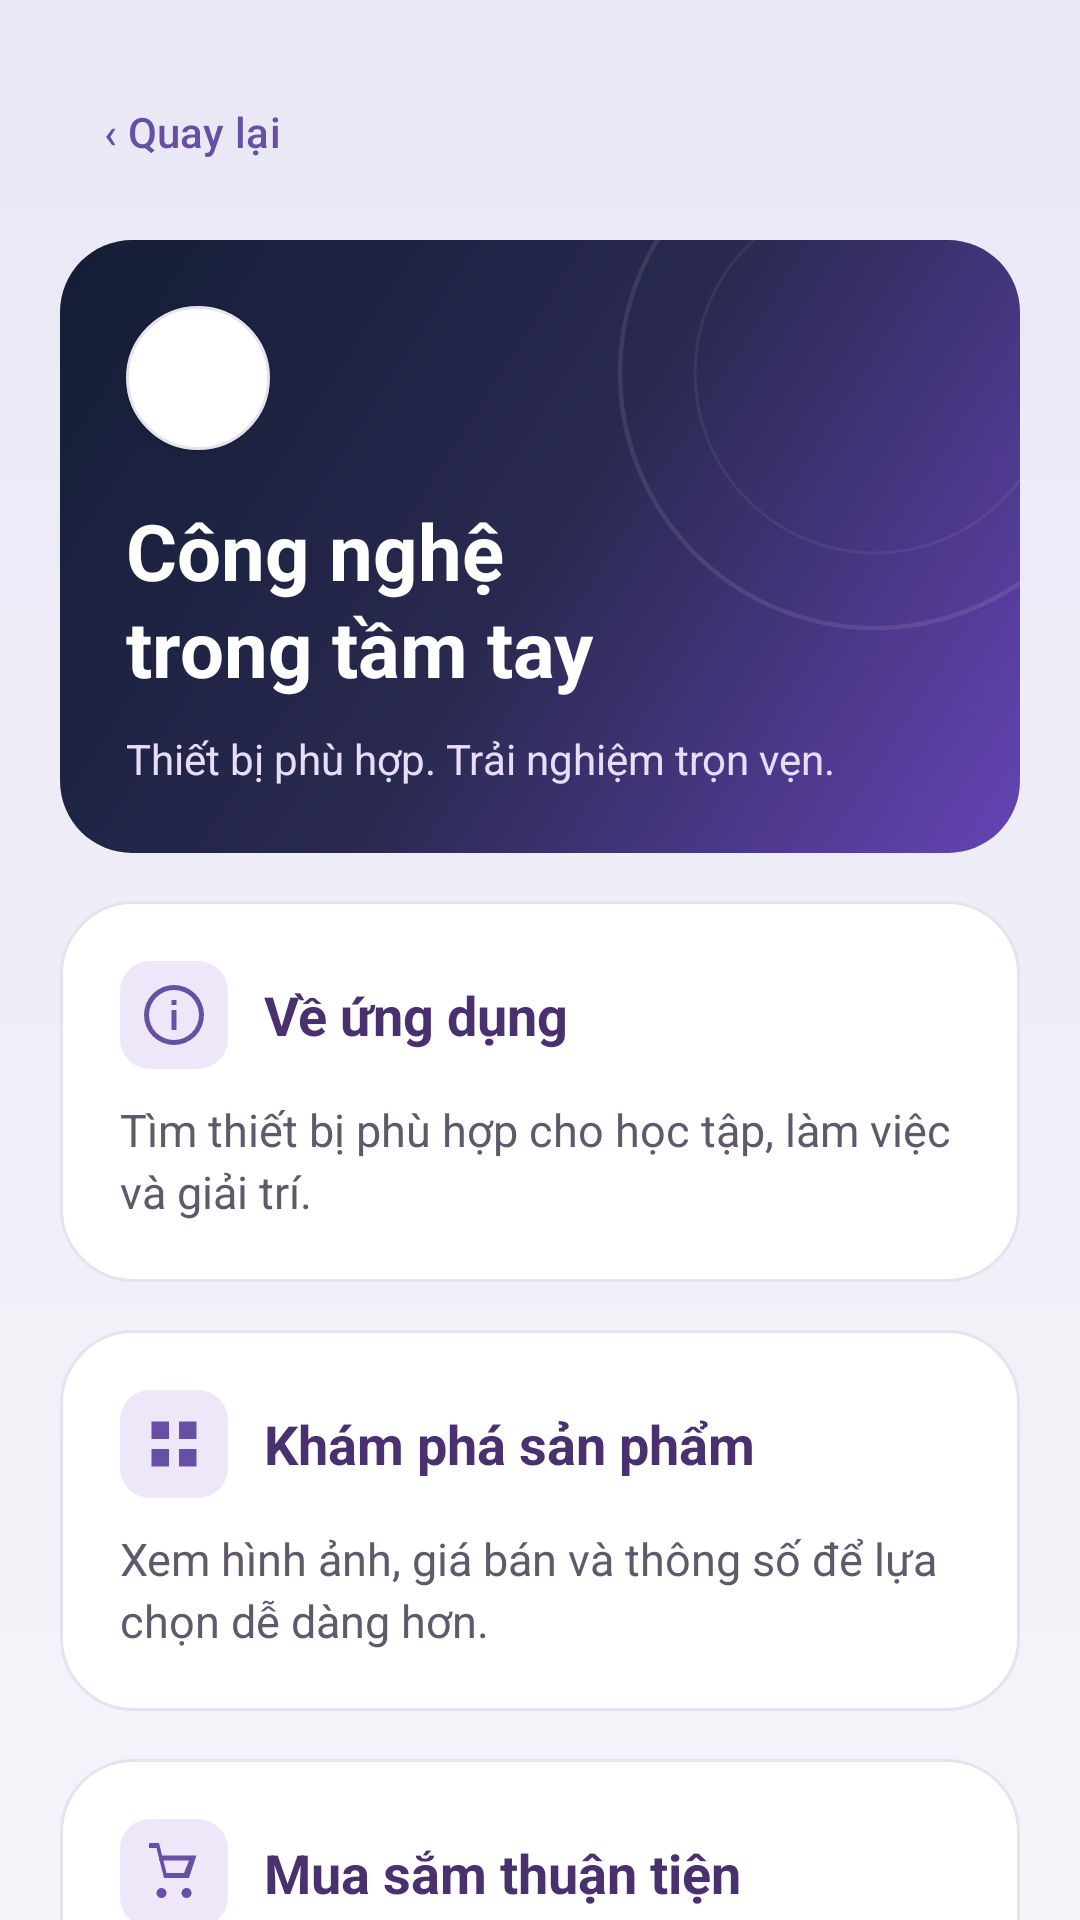

Where to tap for icons on this 1080 × 1920 app screen, as point (x, y):
about: point (174, 1015)
cart: point (174, 1869)
products: point (174, 1444)
